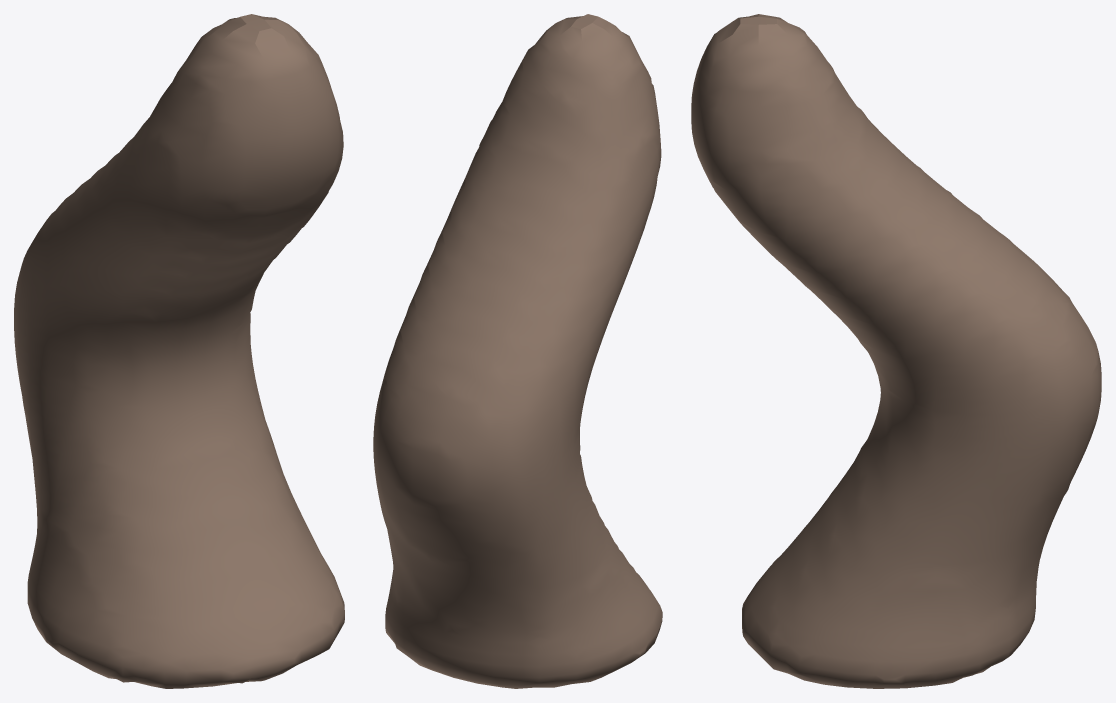
The model's file is MushroomStemTilt3.fbx.
3 views of the same model, side by side, from view 1: azimuth 30°, elevation 25°; view 2: azimuth 150°, elevation 25°; view 3: azimuth 270°, elevation 25° (orthographic). The views are drawn at different scales.
Parts seen in each view (by area): view 1: Cube.001; view 2: Cube.001; view 3: Cube.001.
Boxes of the visible parts, box(x1,y1,x2,y2) form: Cube.001: box(14, 14, 344, 688); Cube.001: box(373, 14, 662, 688); Cube.001: box(691, 14, 1101, 688).
Bounding box in the file's own units: 78.77 × 184 × 110.
